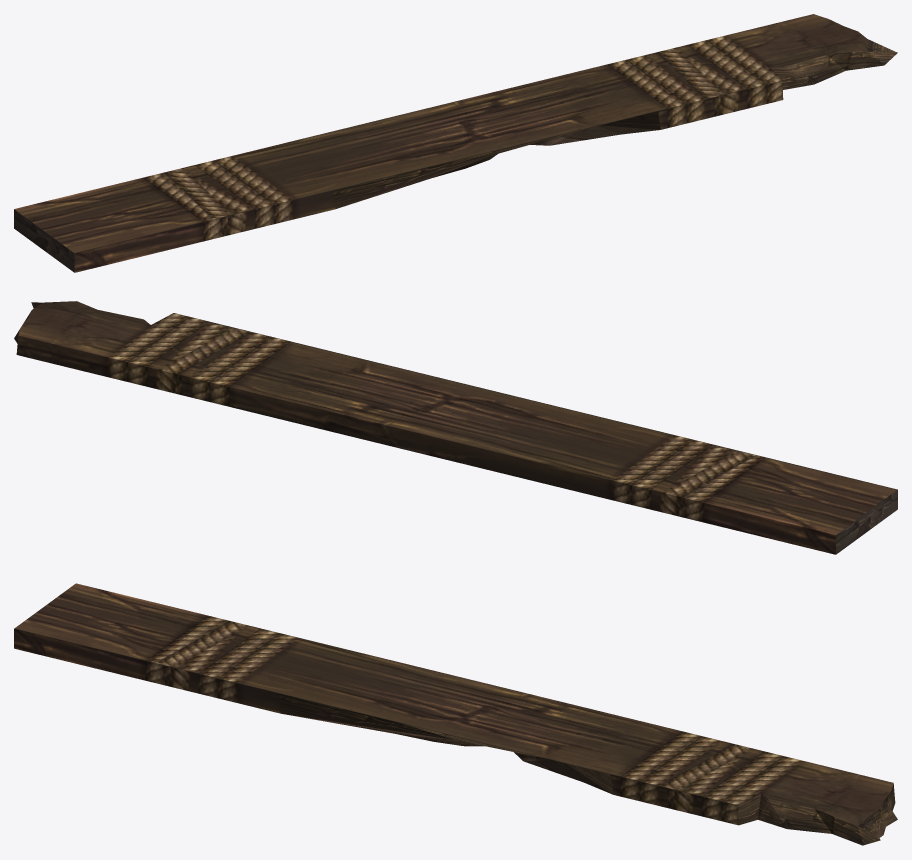
The model's file is A_mutou_posun_002.fbx.
3 views of the same model, one above another, from view 1: azimuth 30°, elevation 25°; view 2: azimuth 150°, elevation 25°; view 3: azimuth 330°, elevation 25° (orthographic). The views are drawn at different scales.
Parts seen in each view (by area): view 1: A_mutou_posun_002; view 2: A_mutou_posun_002; view 3: A_mutou_posun_002.
Boxes of the visible parts, x1,y1,x2,y2 form: A_mutou_posun_002: (14, 14, 897, 272); A_mutou_posun_002: (14, 301, 897, 554); A_mutou_posun_002: (14, 583, 897, 845).
Bounding box in the file's own units: 253 × 5.61 × 31.78.
